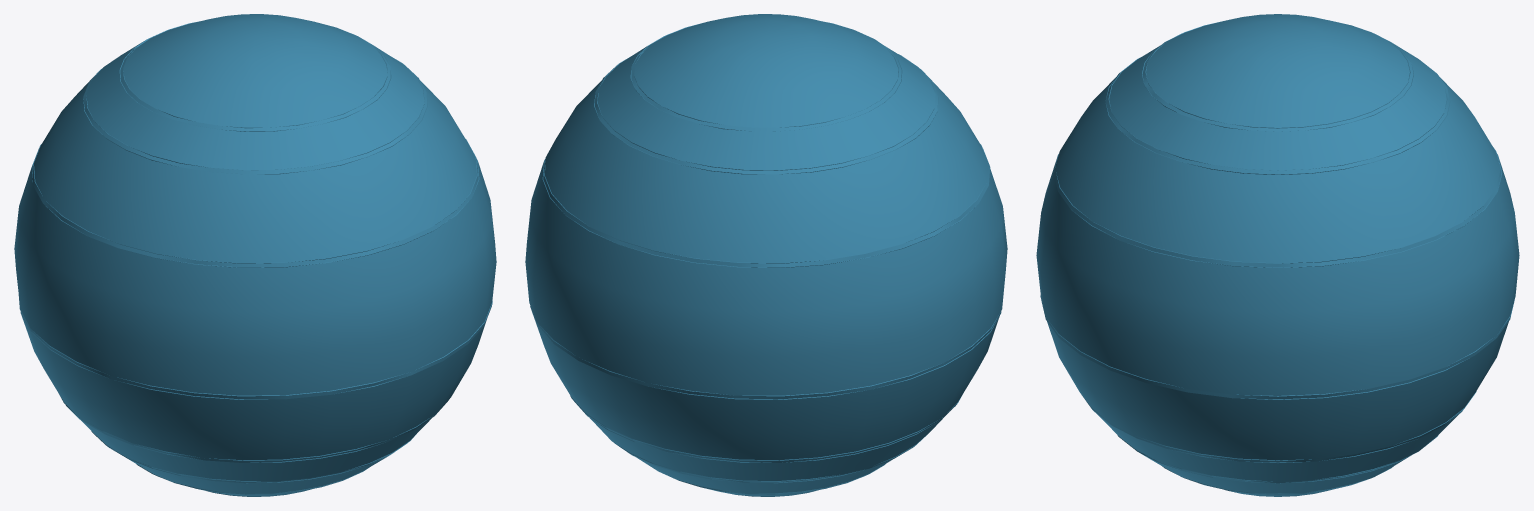
File: Fitnes ball 1.FBX
3 renders of one model, left to right at view 1: azimuth 30°, elevation 25°; view 2: azimuth 150°, elevation 25°; view 3: azimuth 270°, elevation 25°, orthographic.
Visible parts, largest first — view 1: fitnes ball 1; view 2: fitnes ball 1; view 3: fitnes ball 1.
Boxes of the visible parts, box(x1,y1,x2,y2) form: fitnes ball 1: box(14, 14, 496, 496); fitnes ball 1: box(525, 14, 1007, 496); fitnes ball 1: box(1036, 14, 1519, 496).
Size of the model in its own units: 64.59 by 64.59 by 64.59.
1 material, 1 textured.
